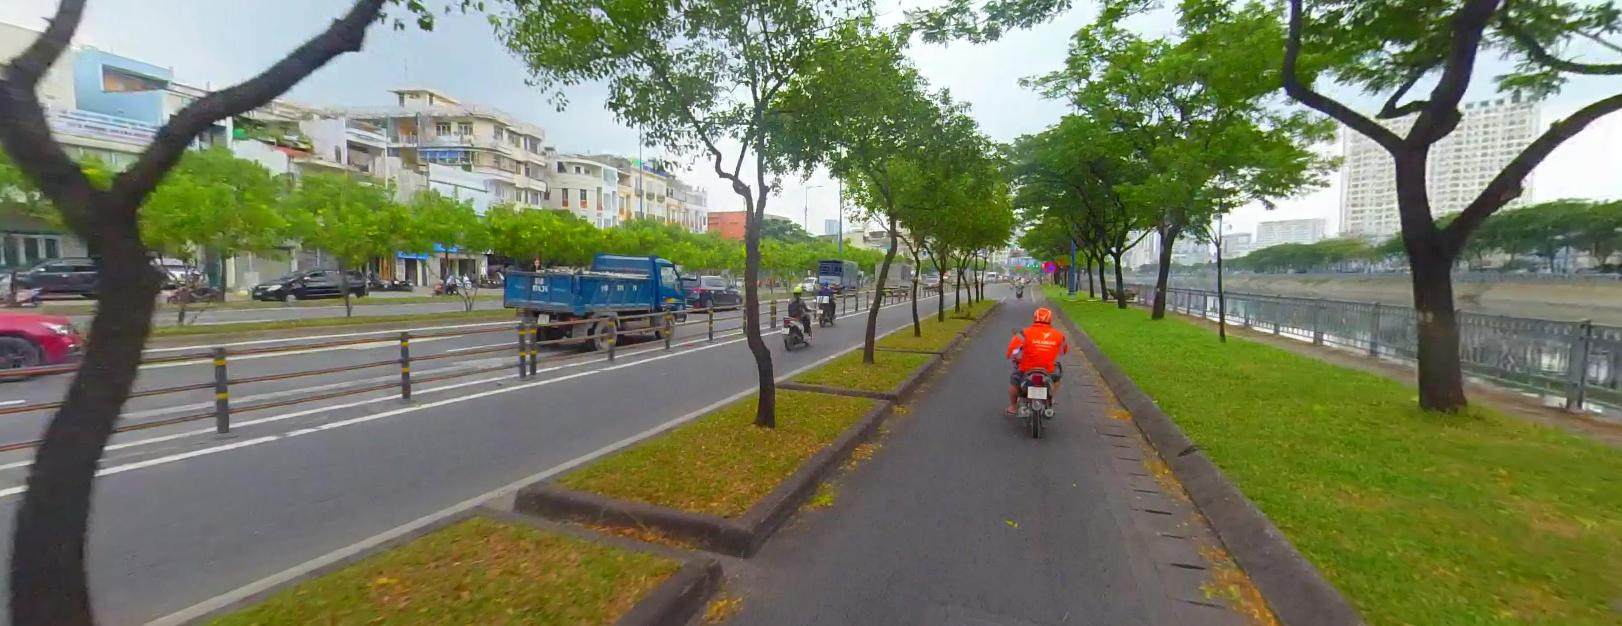Cam dung va do: (1043, 260, 1055, 271)
